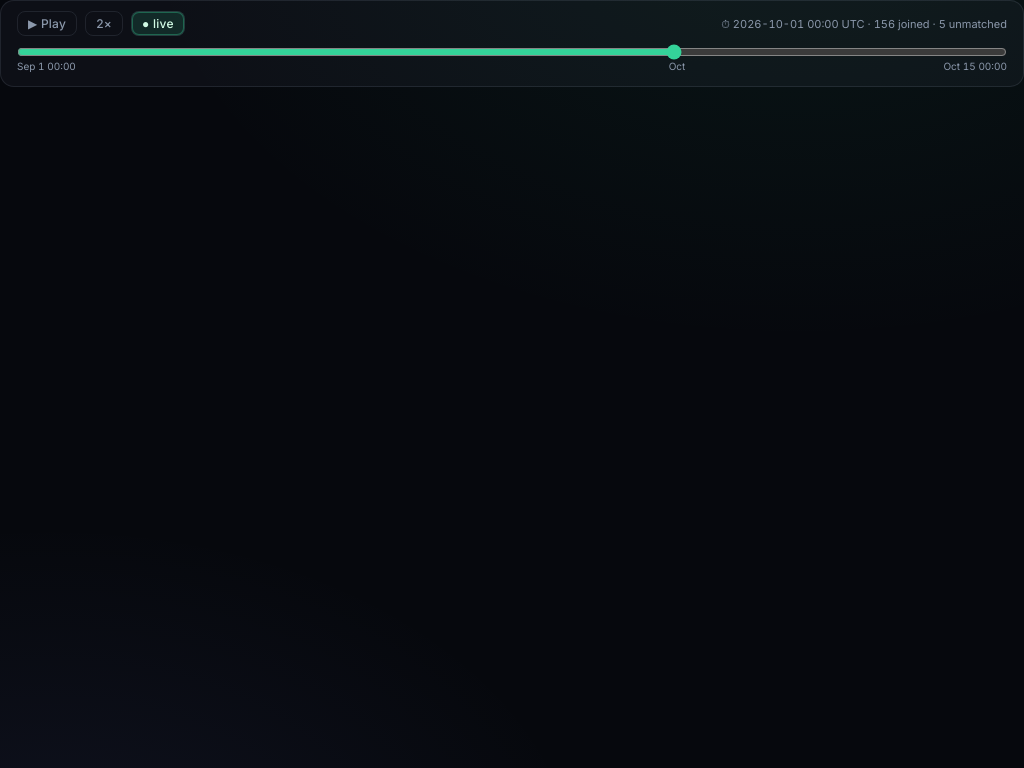
Test case: Timeline › the live-exit button returns to live: the data.rows rendering
Expected: the slider named "snapshot position" is shown, [17,44,1007,60]
Click the button titled "Back to the live data". click: click(158, 24)
box: [131,11,185,36]
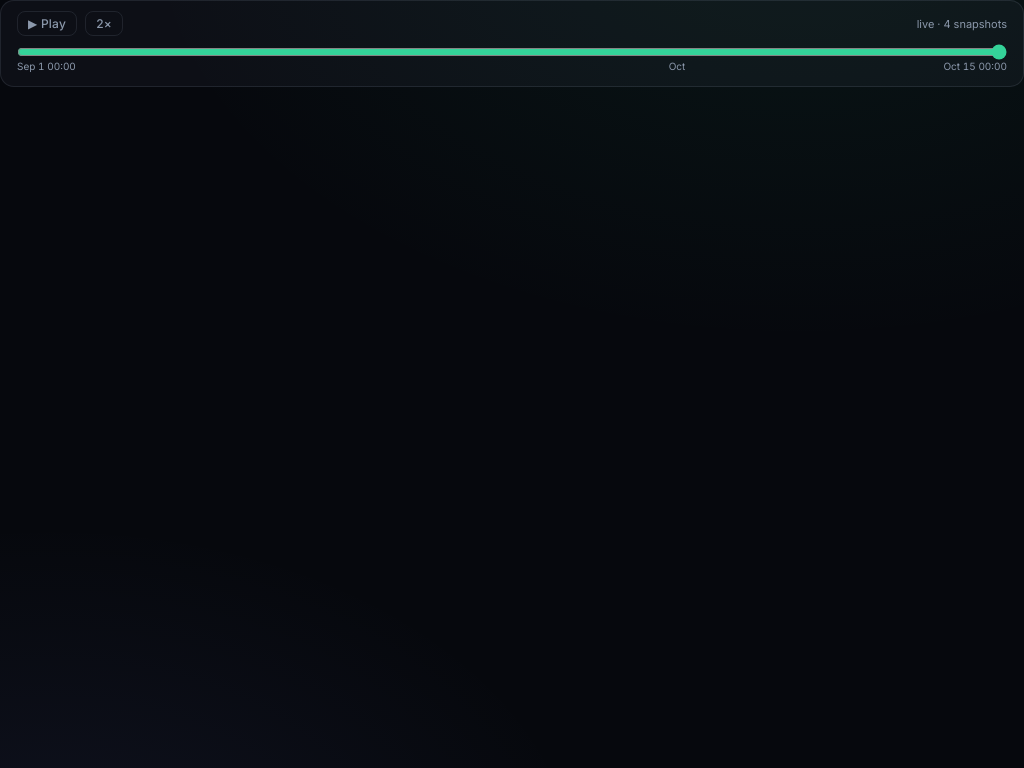
Now the slider named "snapshot position" holds "3", box [17,44,1007,60]
